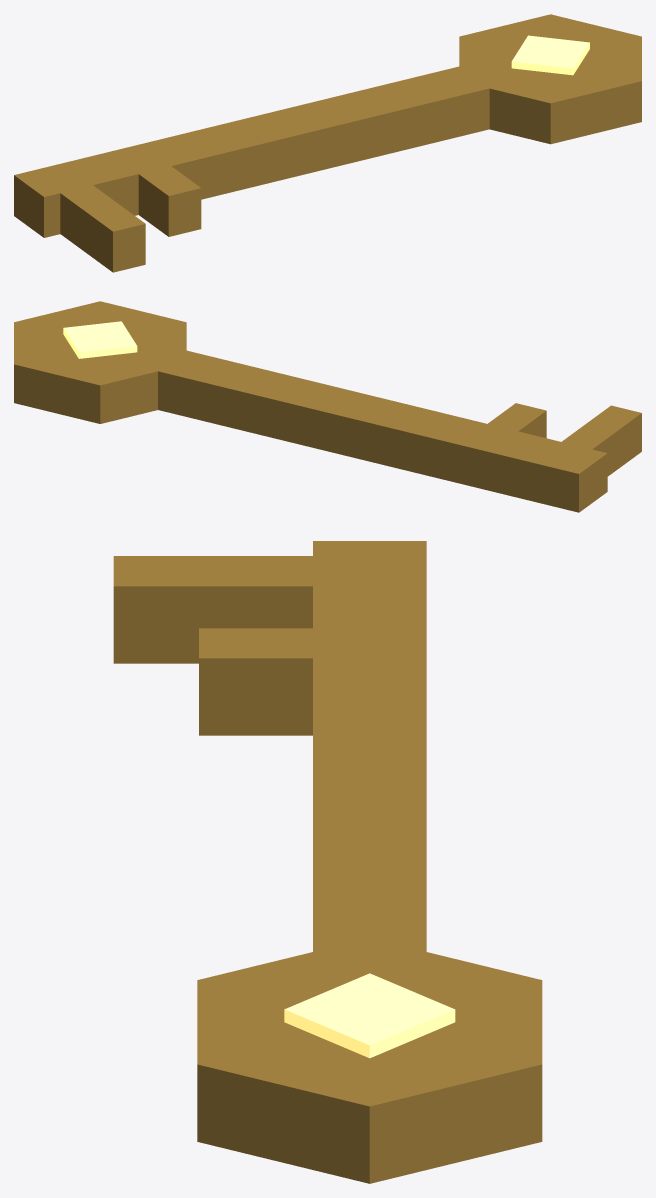
File: waylamp_key.glb
3 views of the same model, one above another, from view 1: azimuth 30°, elevation 25°; view 2: azimuth 150°, elevation 25°; view 3: azimuth 270°, elevation 25° (orthographic). The views are drawn at different scales.
Parts seen in each view (by area): view 1: waylamp_key; view 2: waylamp_key; view 3: waylamp_key.
Part boxes in pixels (left/top/right/bottom): waylamp_key: left=14, top=14, right=641, bottom=272; waylamp_key: left=14, top=301, right=641, bottom=512; waylamp_key: left=113, top=541, right=542, bottom=1183.
Size of the model in its own units: 0.094 by 0.007 by 0.0301.
